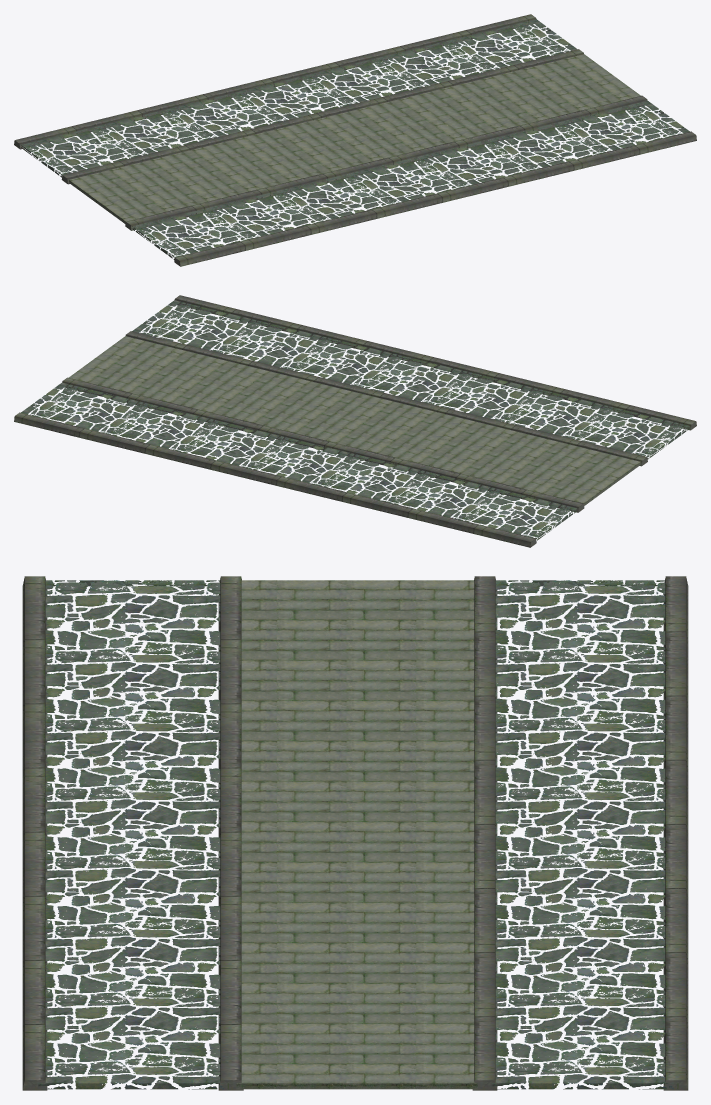
Rendered from environment_Building_qingsangcheng_001_i.FBX.
The picture shows the model from 3 angles, top to bottom: view 1: azimuth 30°, elevation 25°; view 2: azimuth 150°, elevation 25°; view 3: azimuth 270°, elevation 25°; orthographic projection. The views are drawn at different scales.
Parts seen in each view (by area): view 1: environment_Building_qingsangcheng_001_i01, environment_Building_qingsangcheng_001_i03, environment_Building_qingsangcheng_001_i02; view 2: environment_Building_qingsangcheng_001_i01, environment_Building_qingsangcheng_001_i03, environment_Building_qingsangcheng_001_i02; view 3: environment_Building_qingsangcheng_001_i01, environment_Building_qingsangcheng_001_i03, environment_Building_qingsangcheng_001_i02.
Boxes of the visible parts, bbox=[...] form: environment_Building_qingsangcheng_001_i01: bbox=[21, 19, 689, 259]; environment_Building_qingsangcheng_001_i03: bbox=[69, 54, 640, 223]; environment_Building_qingsangcheng_001_i02: bbox=[14, 14, 696, 266]; environment_Building_qingsangcheng_001_i01: bbox=[21, 300, 689, 540]; environment_Building_qingsangcheng_001_i03: bbox=[69, 336, 640, 505]; environment_Building_qingsangcheng_001_i02: bbox=[14, 295, 696, 547]; environment_Building_qingsangcheng_001_i01: bbox=[38, 580, 678, 1089]; environment_Building_qingsangcheng_001_i03: bbox=[236, 580, 477, 1089]; environment_Building_qingsangcheng_001_i02: bbox=[22, 576, 688, 1090].
Size of the model in its own units: 4801 by 2679 by 46.59.
3 materials, 3 textured.
